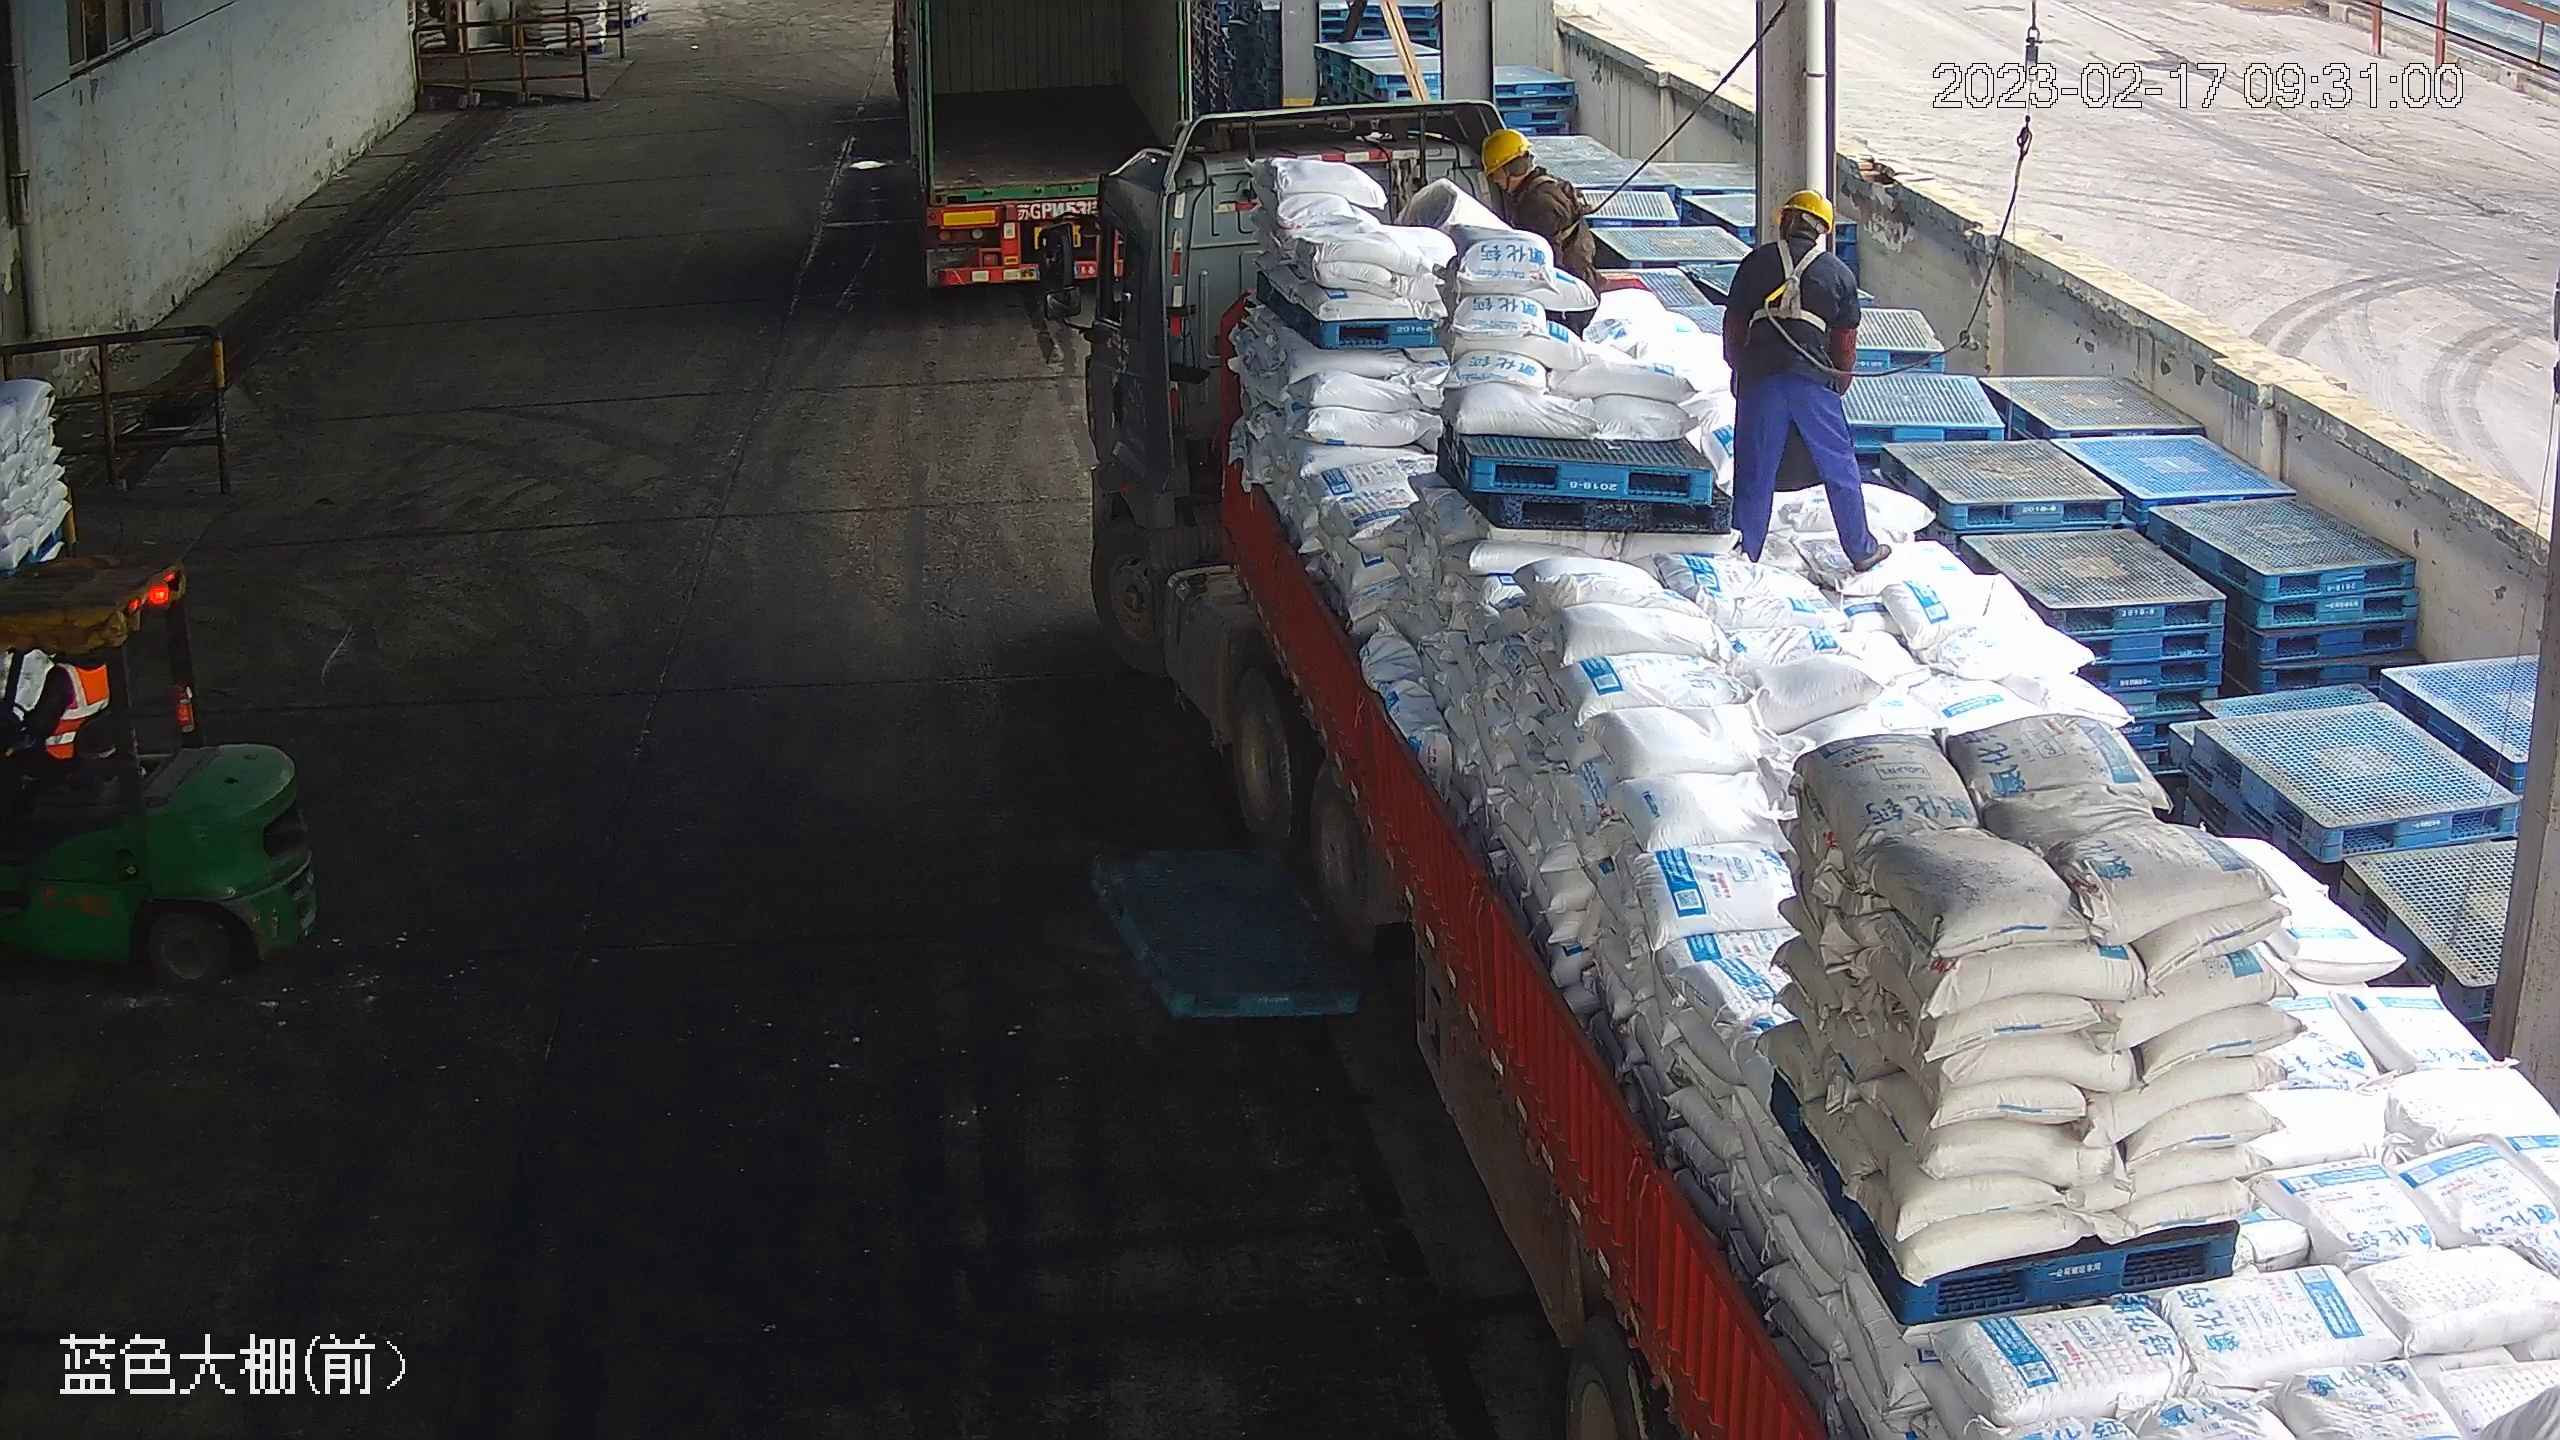belt: (1745, 238, 1851, 336), (1506, 168, 1591, 245)
head: (1728, 189, 1861, 304), (1482, 127, 1590, 244)
helmet: (1772, 188, 1834, 233), (1480, 127, 1533, 177)
people: (1720, 185, 1893, 573)
truck: (1030, 91, 2560, 1440), (888, 1, 1217, 320)
